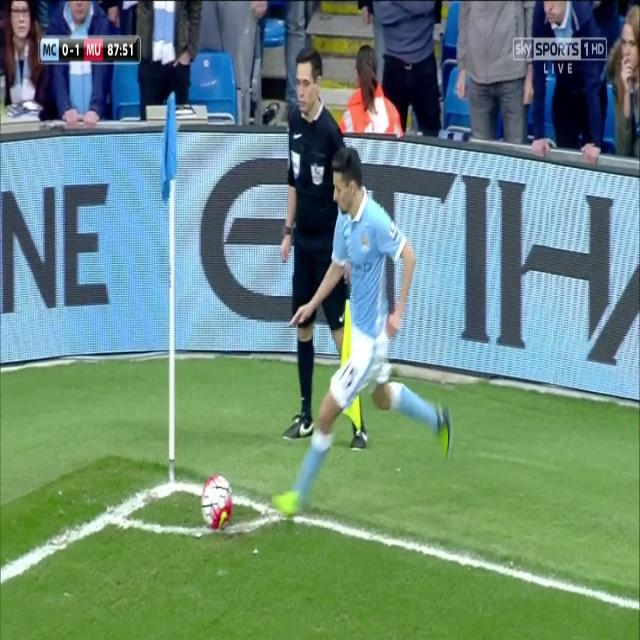Ball: (196, 469, 236, 532)
Player: (271, 150, 451, 520)
Referee: (276, 51, 344, 447)
